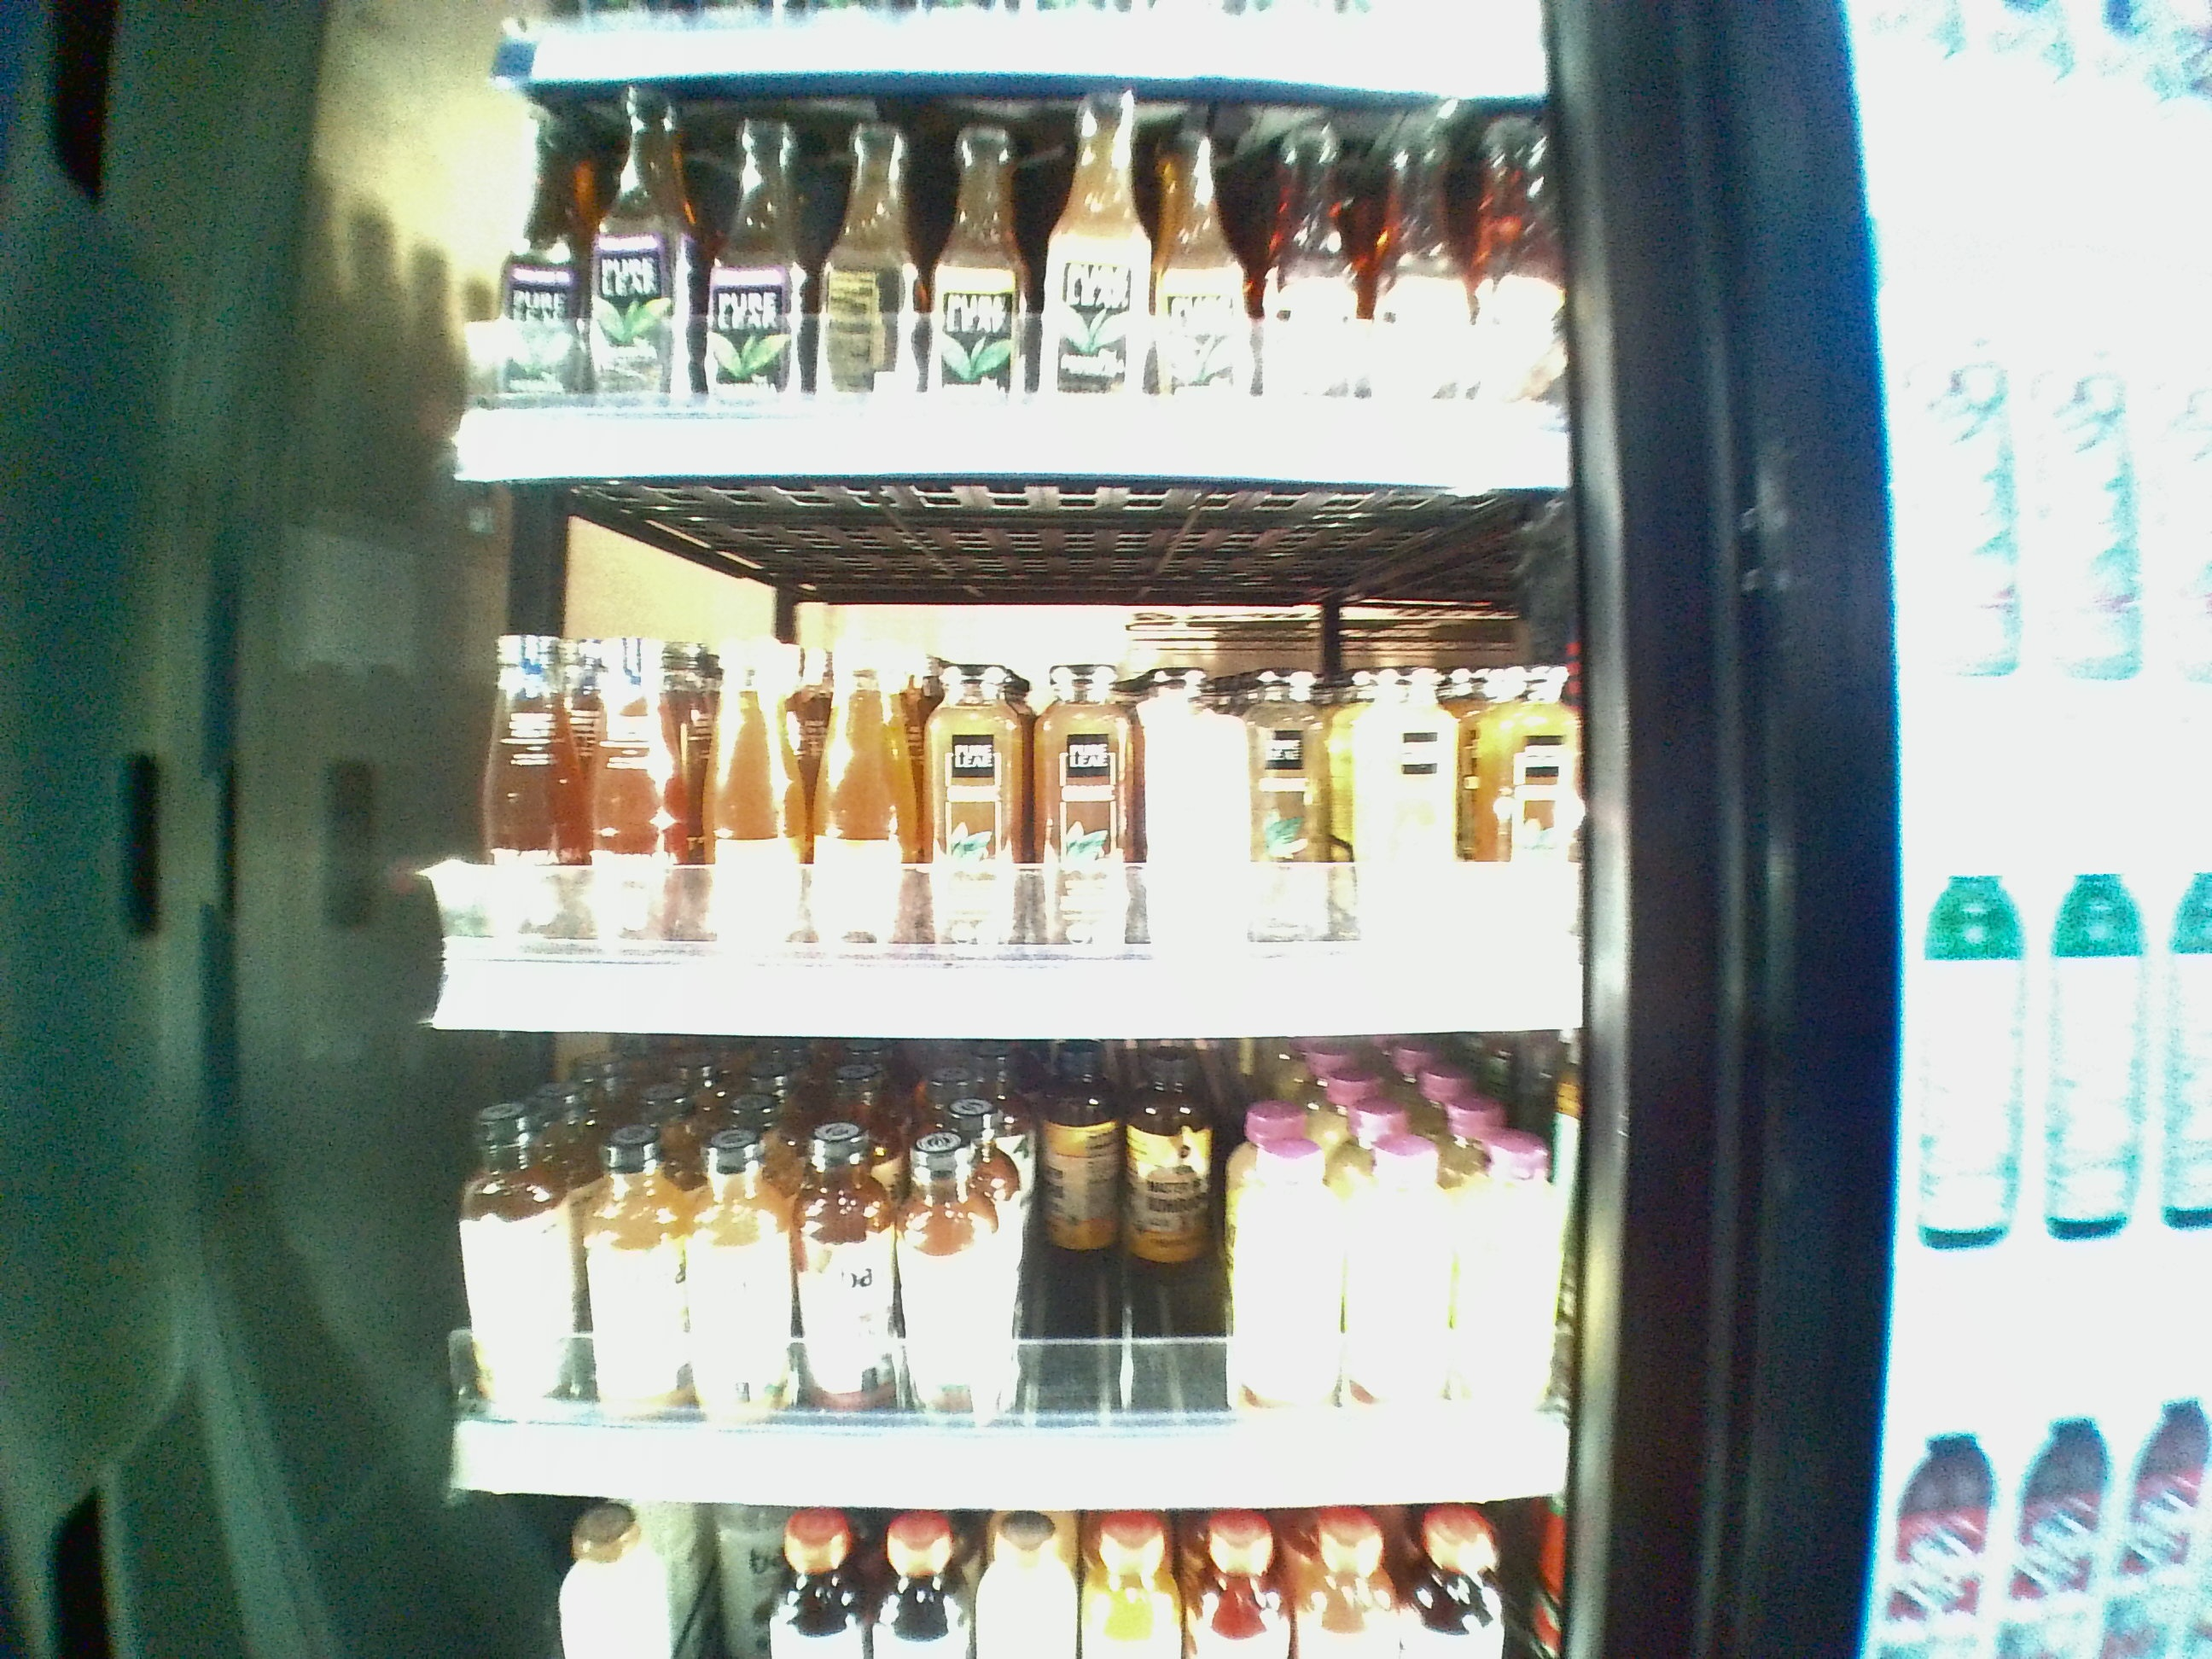shelf: (415, 481, 1578, 1033), (415, 1042, 1573, 1520), (415, 85, 1569, 477)
